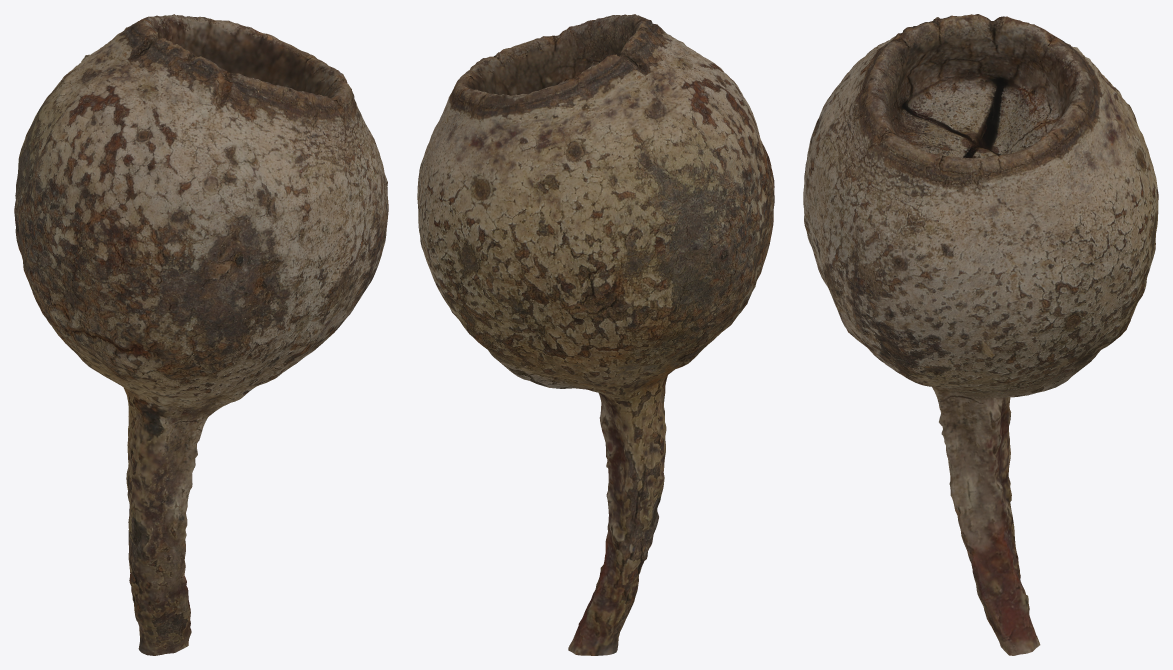
Rendered from seed_head.glb.
3 views of the same model, side by side, from view 1: azimuth 30°, elevation 25°; view 2: azimuth 150°, elevation 25°; view 3: azimuth 270°, elevation 25° (orthographic). The views are drawn at different scales.
Parts seen in each view (by area): view 1: Object_2; view 2: Object_2; view 3: Object_2.
Boxes of the visible parts, box(x1,y1,x2,y2) form: Object_2: box(14, 14, 388, 655); Object_2: box(417, 14, 774, 655); Object_2: box(803, 14, 1158, 655).
Size of the model in its own units: 1.05 by 1.95 by 1.01.
Materials: 1 (1 with a texture image).
